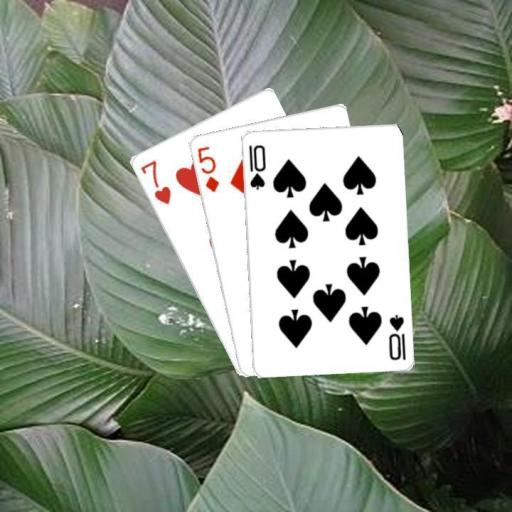10S: (245, 141, 267, 191), (385, 311, 407, 361)
5D: (194, 143, 221, 193)
7H: (137, 157, 172, 207)
